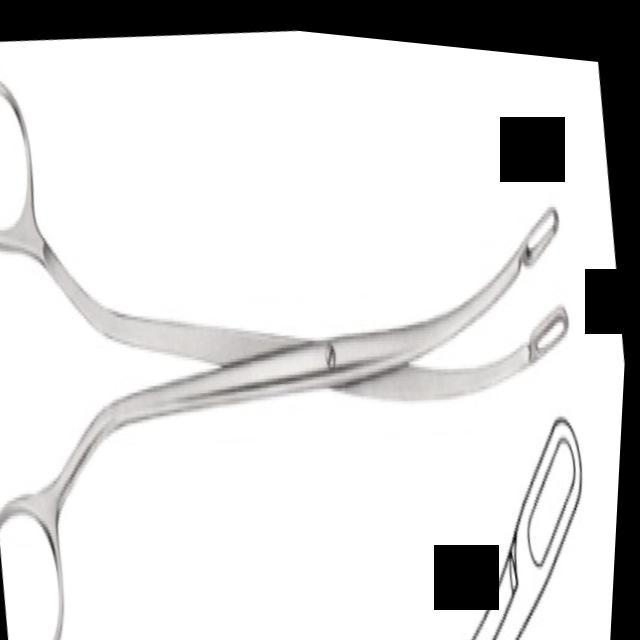Desjardin Forceps: (0, 0, 629, 640)
